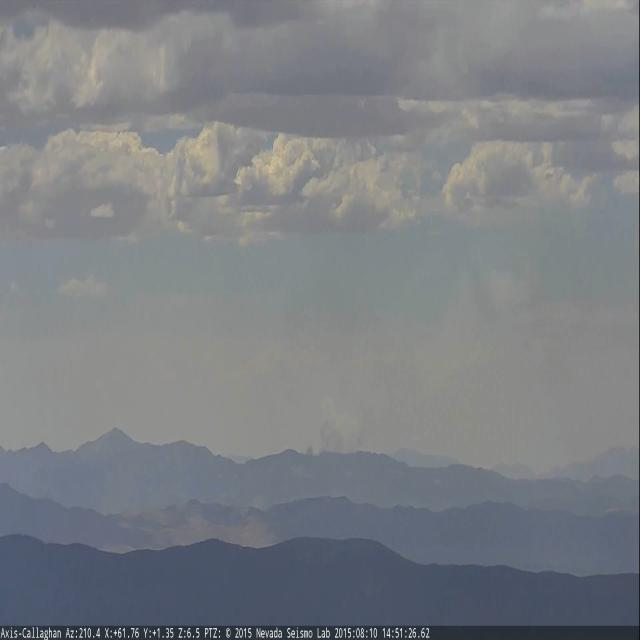smoke: (303, 419, 344, 452)
